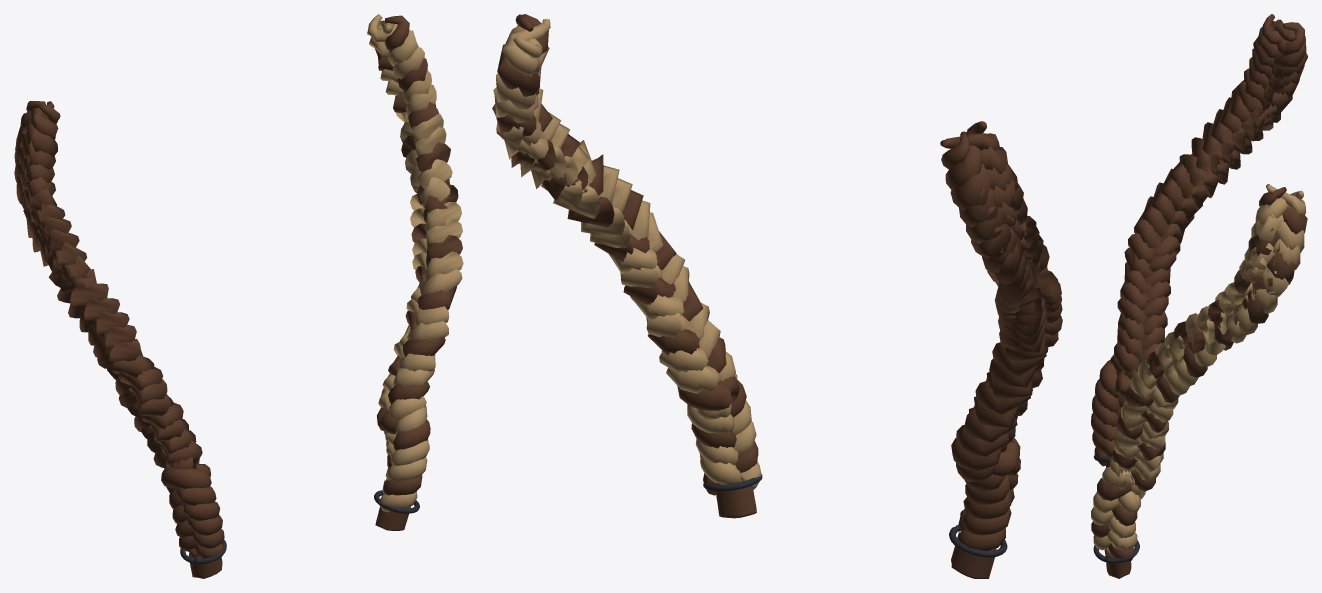
Rendered from Highlights-44cba171c7b9251-hair.glb.
3 renders of one model, left to right at view 1: azimuth 30°, elevation 25°; view 2: azimuth 150°, elevation 25°; view 3: azimuth 270°, elevation 25°, orthographic. The views are drawn at different scales.
Visible parts, largest first — view 1: 226 hairLengths / Hair / chestnut226, 226 hairLengths / Hair / ties226; view 2: 226 hairLengths / Hair / chestnut226, 226 hairLengths / Hair / ties226; view 3: 226 hairLengths / Hair / chestnut226, 226 hairLengths / Hair / ties226.
Part boxes in pixels (x1,y1,x2,y2): 226 hairLengths / Hair / chestnut226: (14,14,463,578); 226 hairLengths / Hair / ties226: (180,490,419,563); 226 hairLengths / Hair / chestnut226: (492,14,1062,578); 226 hairLengths / Hair / ties226: (703,474,1007,557); 226 hairLengths / Hair / chestnut226: (1091,14,1307,578); 226 hairLengths / Hair / ties226: (1093,455,1139,563).
Size of the model in its own units: 1.03 by 1.06 by 0.4842.
